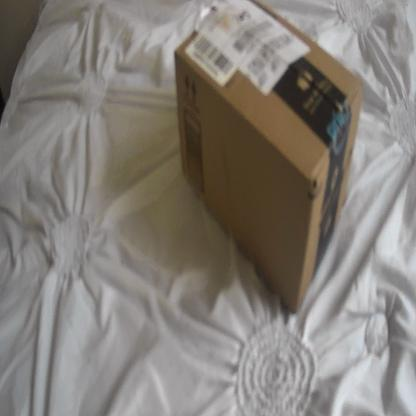package: (170, 0, 369, 325)
